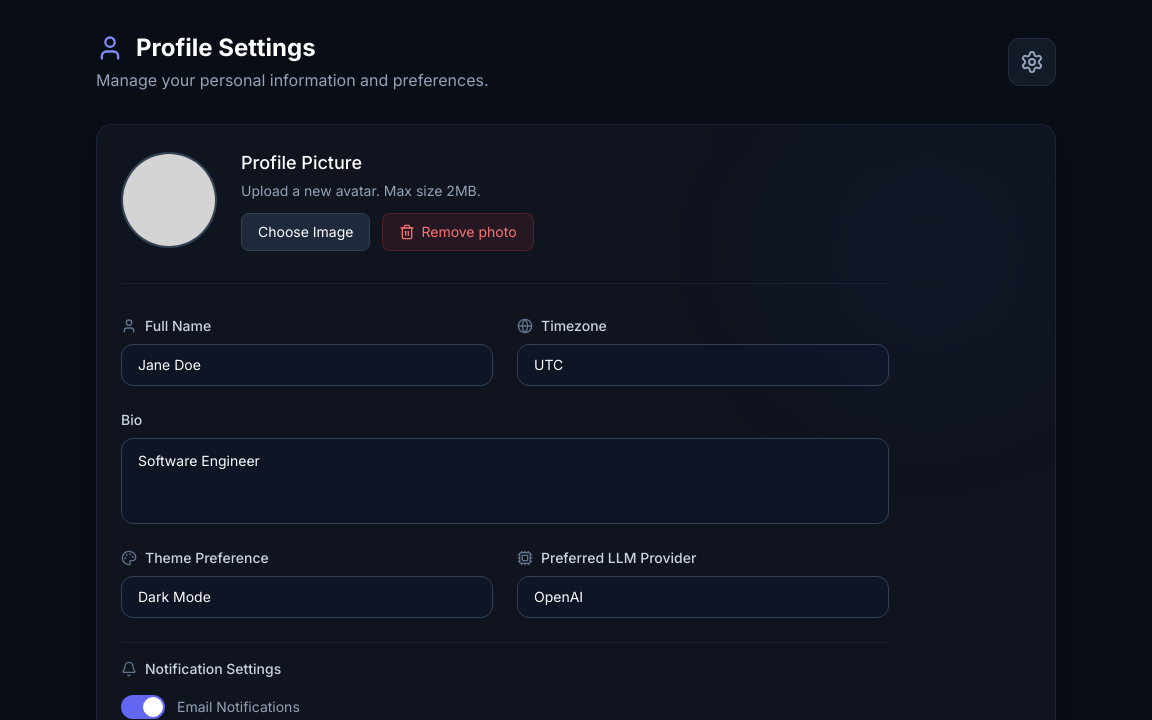
Test: ProfilePage and Photo Update › removes profile photo on confirmation, falls back to default avatar, and displays success
The width and height of the screenshot is (1152, 720).
Click the button "Remove photo".
click(458, 232)  # box [382, 213, 534, 251]
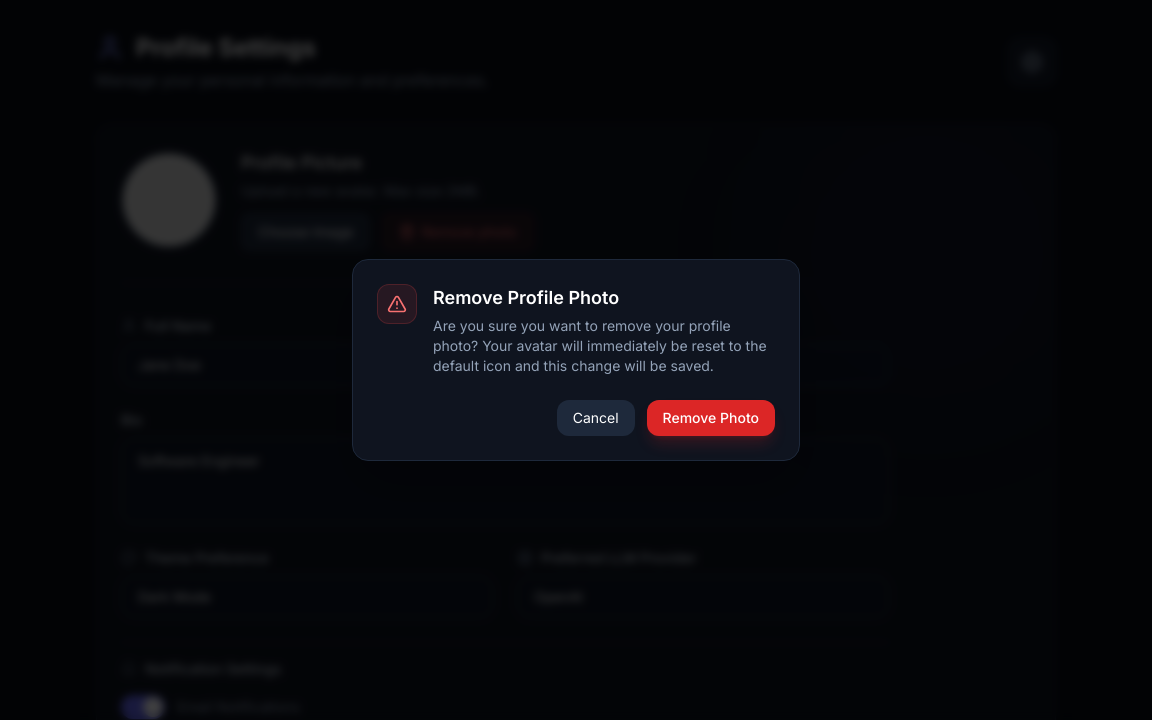
Click the button with id "btn-confirm-remove-photo".
click(711, 418)  # box [647, 400, 775, 436]
(page scrolled)
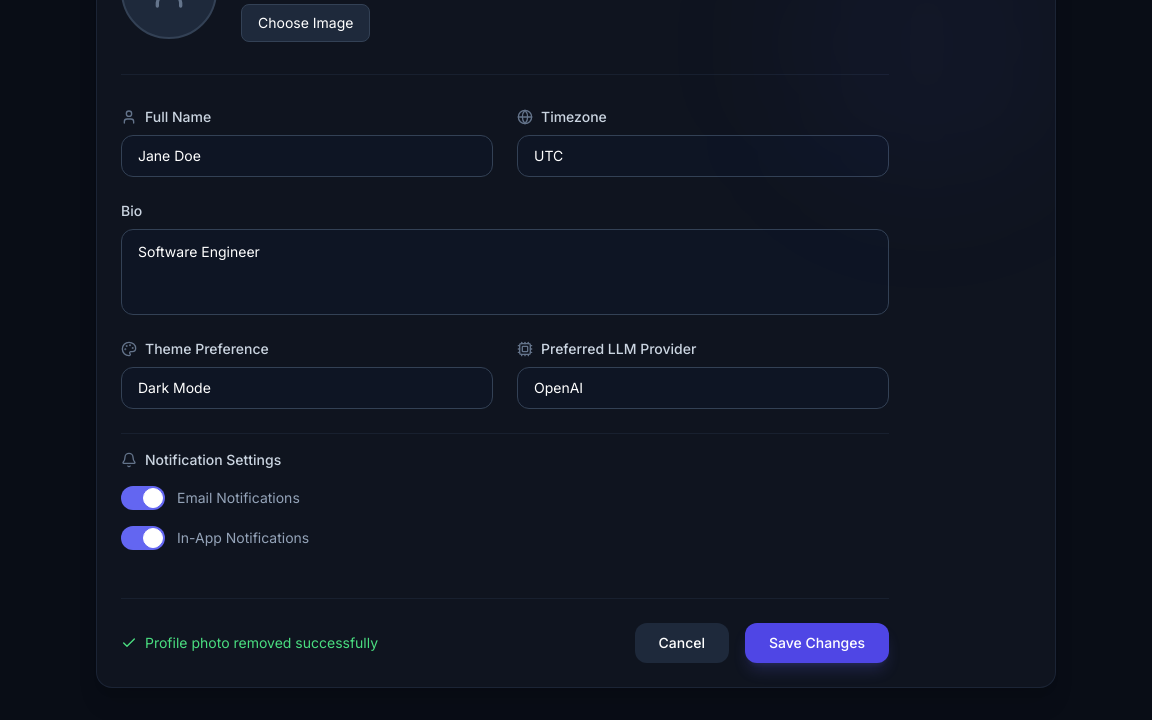
Result: the text "Profile photo removed successfully" is shown at [121, 633, 378, 653]
Result: the picture with alt text "Avatar" is gone
Result: the button "Remove photo" is gone
